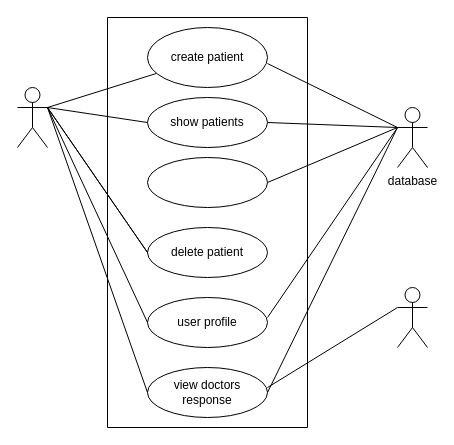
Some shapes in this 454 by 445 pixel diagram are drawn without their labels. Each missing label, with the centre of its shape:
doctor: (412,317)
doctor details view: (207,182)
user: (32,117)
